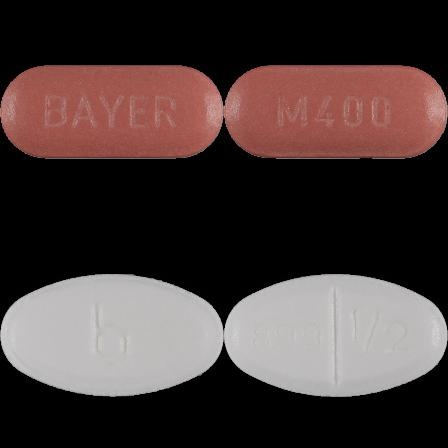54868-4367: (0, 0, 224, 224)
